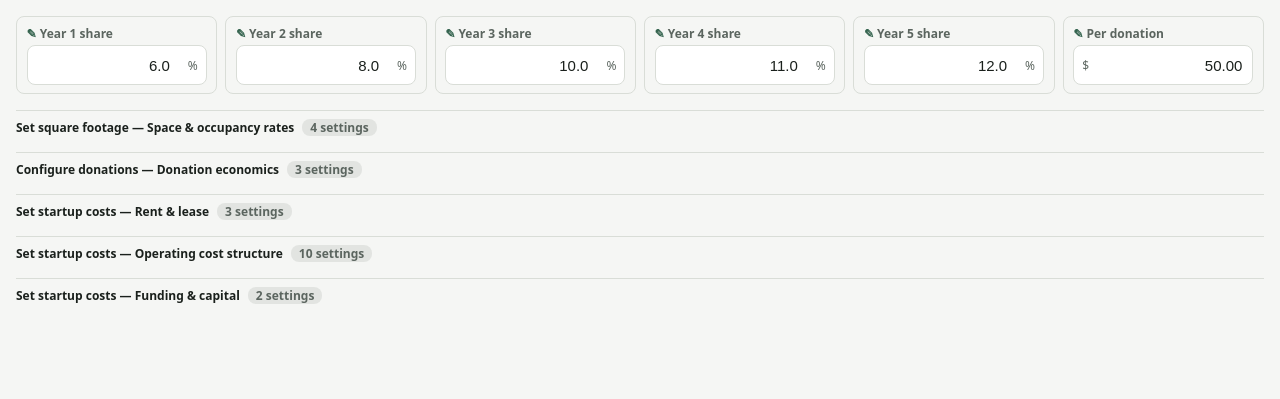
Test: SettingsTab — merged grid renders KPIs + driver fields (D11) › renders the donation drivers when present (E2): $/donation ungrouped, basket + donations/yr in the donation group
The width and height of the screenshot is (1280, 399).
Expected: the field named "year 4 share" is shown, [656,57,808,74]
Expected: the field named "year 5 share" is shown, [865,57,1017,74]
Click the heading "Configure donations — Donation economics 3 settings". click: (189, 170)
box: [16,161,362,178]
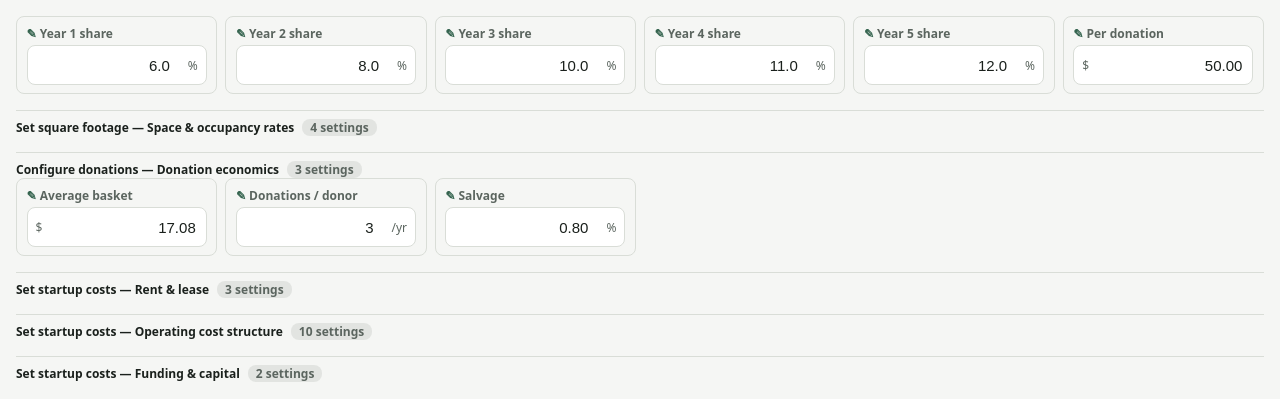
Expected: the field named "average basket" is shown, [50,219,206,236]
Expected: the field named "Donations / donor /yr" is shown, [237,219,384,236]
